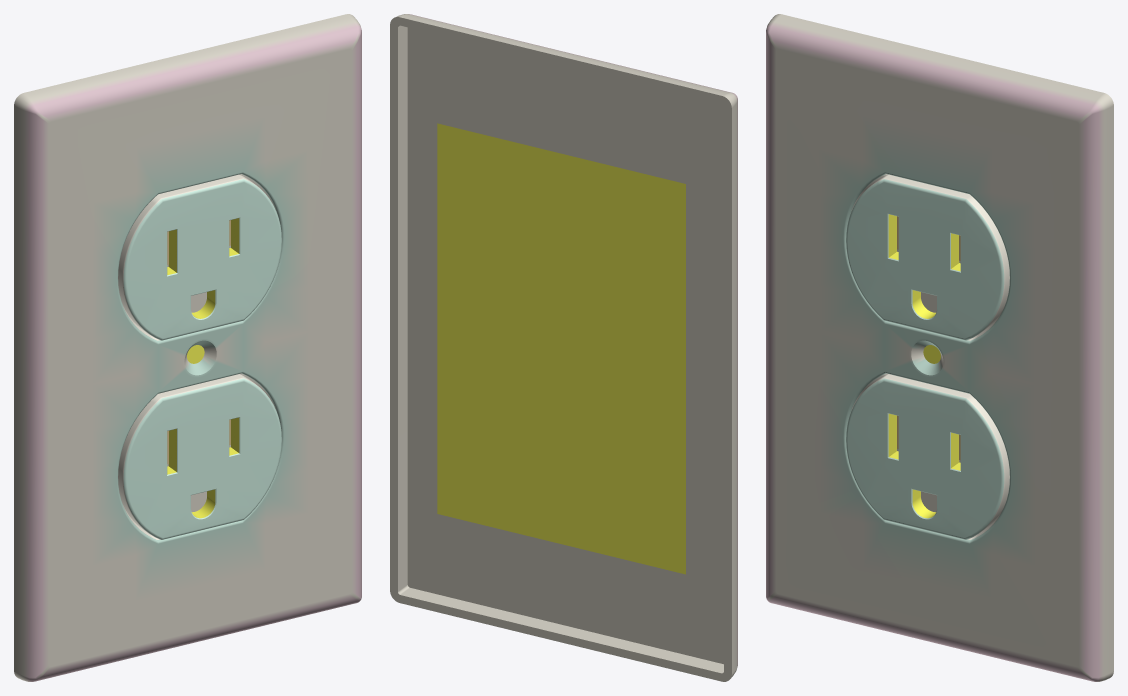
The model's file is Kit_OutletDuplex.fbx.
3 views of the same model, side by side, from view 1: azimuth 30°, elevation 25°; view 2: azimuth 150°, elevation 25°; view 3: azimuth 330°, elevation 25° (orthographic).
Visible parts, largest first — view 1: Kit_OutletDuplex_LOD0; view 2: Kit_OutletDuplex_LOD0; view 3: Kit_OutletDuplex_LOD0.
Part boxes in pixels (box(x1,y1,x2,y2)): Kit_OutletDuplex_LOD0: box(14, 14, 361, 681); Kit_OutletDuplex_LOD0: box(390, 14, 737, 681); Kit_OutletDuplex_LOD0: box(766, 14, 1113, 681).
Size of what is drawn, in the model's own units: 0.0698 by 0.1143 by 0.0066.
